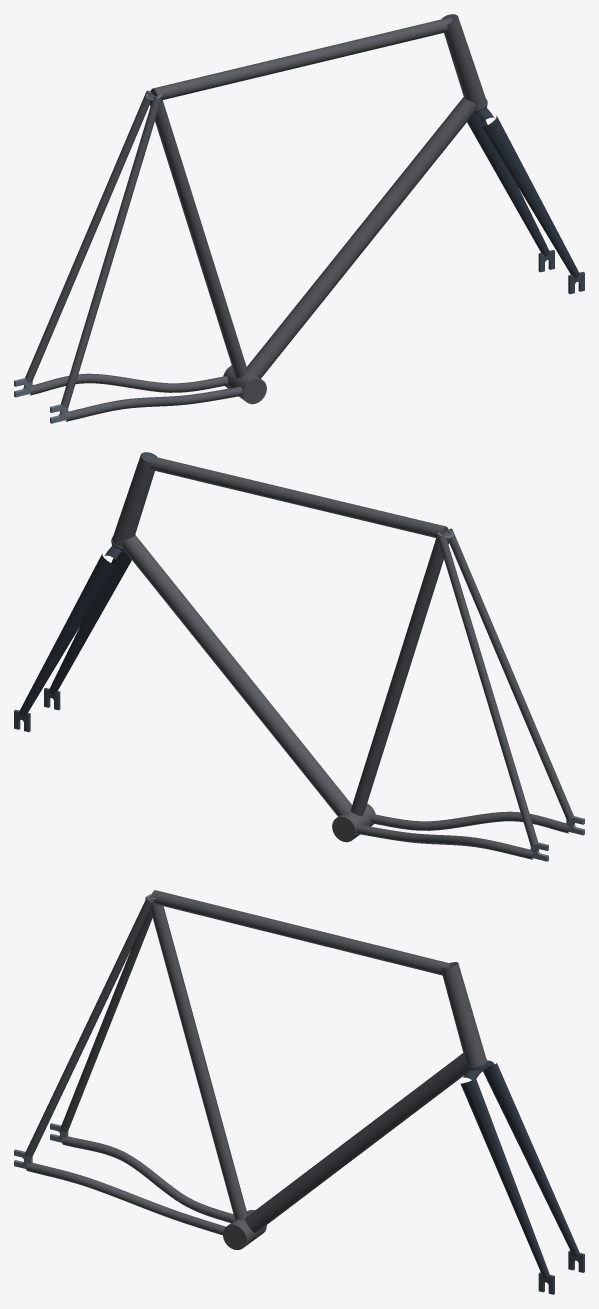
The model's file is wabi-prism-60.glb.
3 renders of one model, top to bottom at view 1: azimuth 30°, elevation 25°; view 2: azimuth 150°, elevation 25°; view 3: azimuth 330°, elevation 25°, orthographic.
Visible parts, largest first — view 1: paint_down, paint_top, paint_seat, paint_seatstay_1, paint_seatstay_-1, fork_blade_1, paint_chainstay_-1, fork_blade_-1, paint_chainstay_1, paint_head, paint_bottom_bracket; view 2: paint_down, paint_top, paint_seat, paint_seatstay_-1, paint_seatstay_1, fork_blade_-1, paint_chainstay_1, fork_blade_1, paint_chainstay_-1, paint_head, paint_bottom_bracket; view 3: paint_down, paint_seat, paint_top, fork_blade_1, fork_blade_-1, paint_seatstay_1, paint_chainstay_1, paint_head, paint_seatstay_-1, paint_chainstay_-1, paint_bottom_bracket.
Part boxes in pixels (x1=…): paint_down: x1=247, y1=97, x2=476, y2=378; paint_top: x1=150, y1=17, x2=452, y2=99; paint_seat: x1=148, y1=93, x2=248, y2=378; paint_seatstay_1: x1=61, y1=96, x2=161, y2=407; paint_seatstay_-1: x1=25, y1=90, x2=151, y2=382; fork_blade_1: x1=482, y1=115, x2=579, y2=278; paint_chainstay_-1: x1=29, y1=373, x2=228, y2=395; fork_blade_-1: x1=467, y1=114, x2=549, y2=256; paint_chainstay_1: x1=65, y1=386, x2=242, y2=421; paint_head: x1=442, y1=14, x2=486, y2=109; paint_bottom_bracket: x1=223, y1=365, x2=266, y2=404; paint_down: x1=122, y1=535, x2=351, y2=816; paint_top: x1=146, y1=455, x2=448, y2=537; paint_seat: x1=350, y1=531, x2=450, y2=816; paint_seatstay_-1: x1=437, y1=534, x2=537, y2=845; paint_seatstay_1: x1=447, y1=528, x2=573, y2=820; fork_blade_-1: x1=19, y1=553, x2=116, y2=716; paint_chainstay_1: x1=370, y1=811, x2=569, y2=833; fork_blade_1: x1=49, y1=552, x2=131, y2=694; paint_chainstay_-1: x1=356, y1=824, x2=533, y2=859; paint_head: x1=112, y1=452, x2=156, y2=547; paint_bottom_bracket: x1=332, y1=803, x2=375, y2=842; paint_down: x1=244, y1=1053, x2=468, y2=1232; paint_seat: x1=150, y1=896, x2=247, y2=1219; paint_top: x1=150, y1=890, x2=452, y2=975; fork_blade_1: x1=460, y1=1078, x2=549, y2=1278; fork_blade_-1: x1=483, y1=1063, x2=579, y2=1256; paint_seatstay_1: x1=24, y1=897, x2=153, y2=1158; paint_chainstay_1: x1=26, y1=1162, x2=225, y2=1235; paint_head: x1=441, y1=962, x2=486, y2=1066; paint_seatstay_-1: x1=60, y1=909, x2=152, y2=1132; paint_chainstay_-1: x1=62, y1=1136, x2=234, y2=1222; paint_bottom_bracket: x1=223, y1=1210, x2=266, y2=1250.
Bounding box in the file's own units: 1.04 × 0.6083 × 0.1396.
